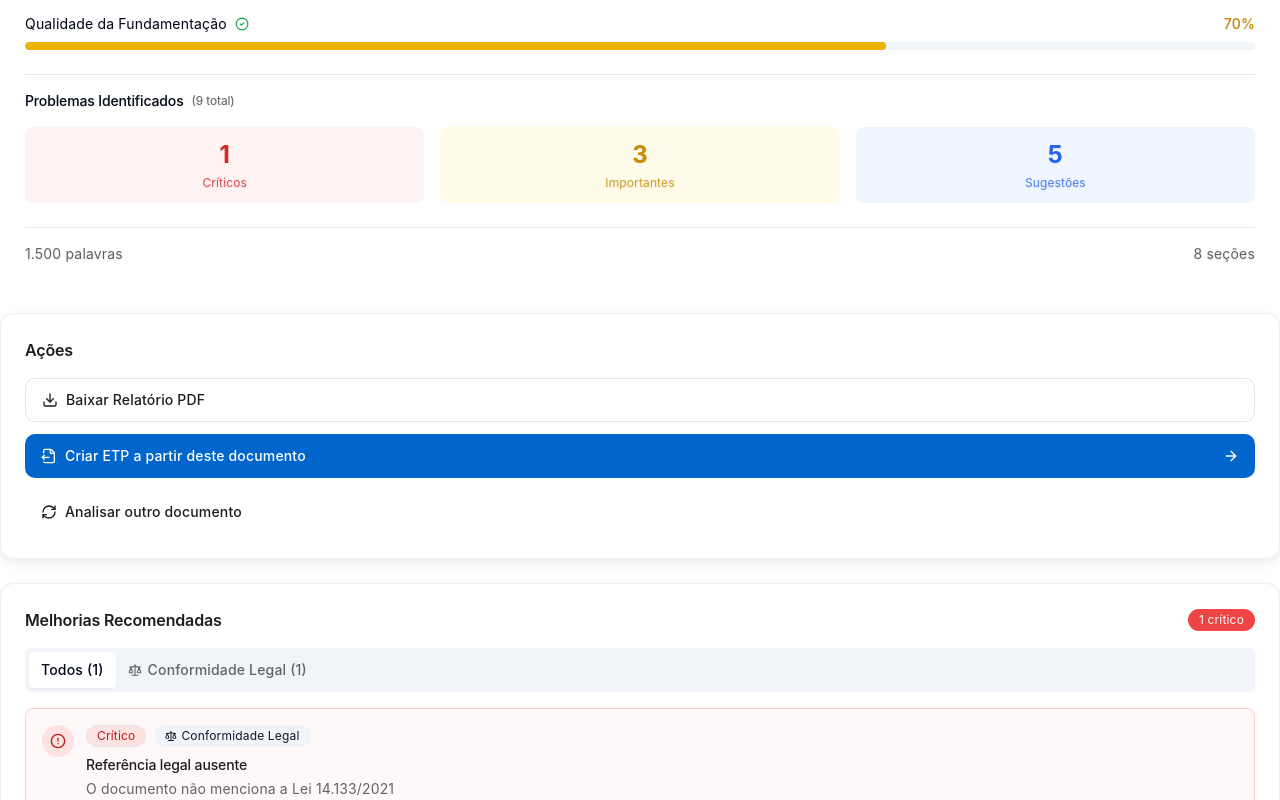
AnalysisResults › Error Handling › displays error when download fails
(page scrolled)
Click the button "Baixar Relatório PDF" at [136, 400], box [25, 378, 1255, 422]
(page scrolled)
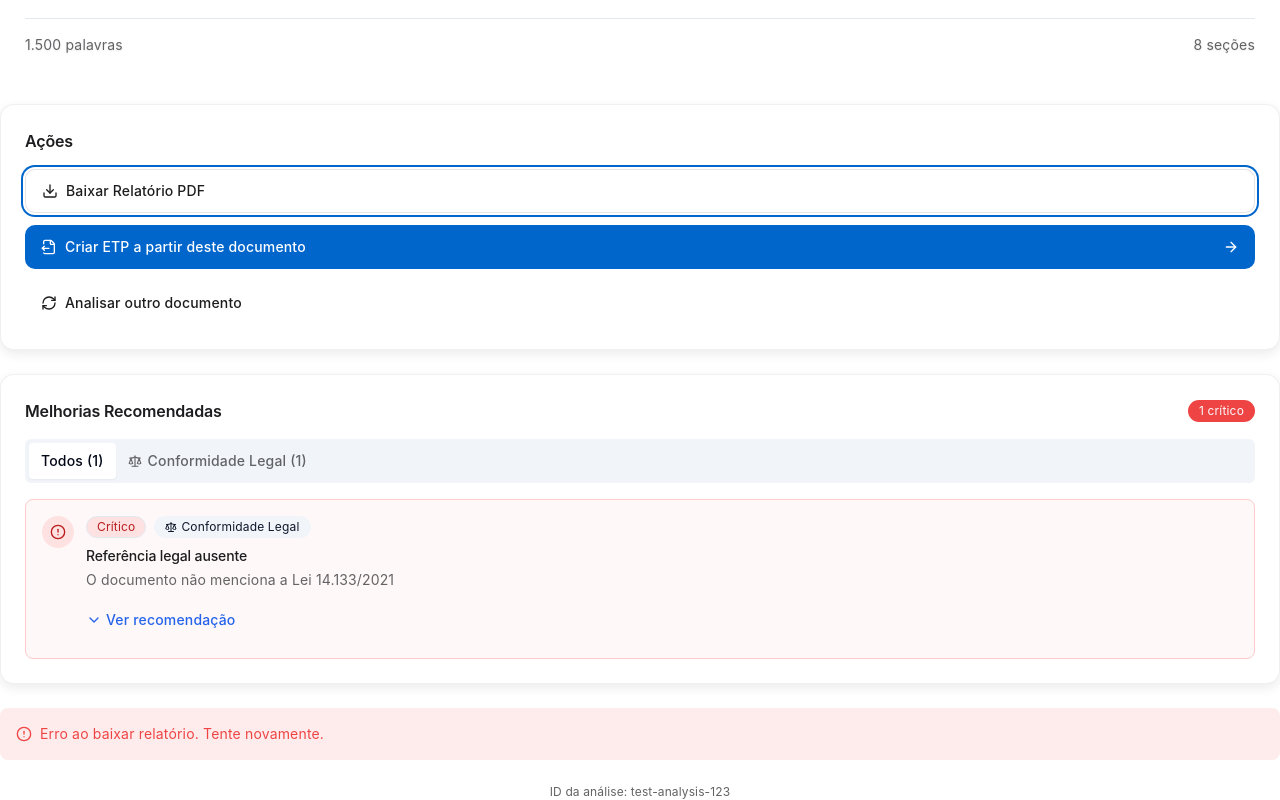
Now the text "Erro ao baixar relatório. Tente novamente." is shown, box [40, 724, 324, 744]
